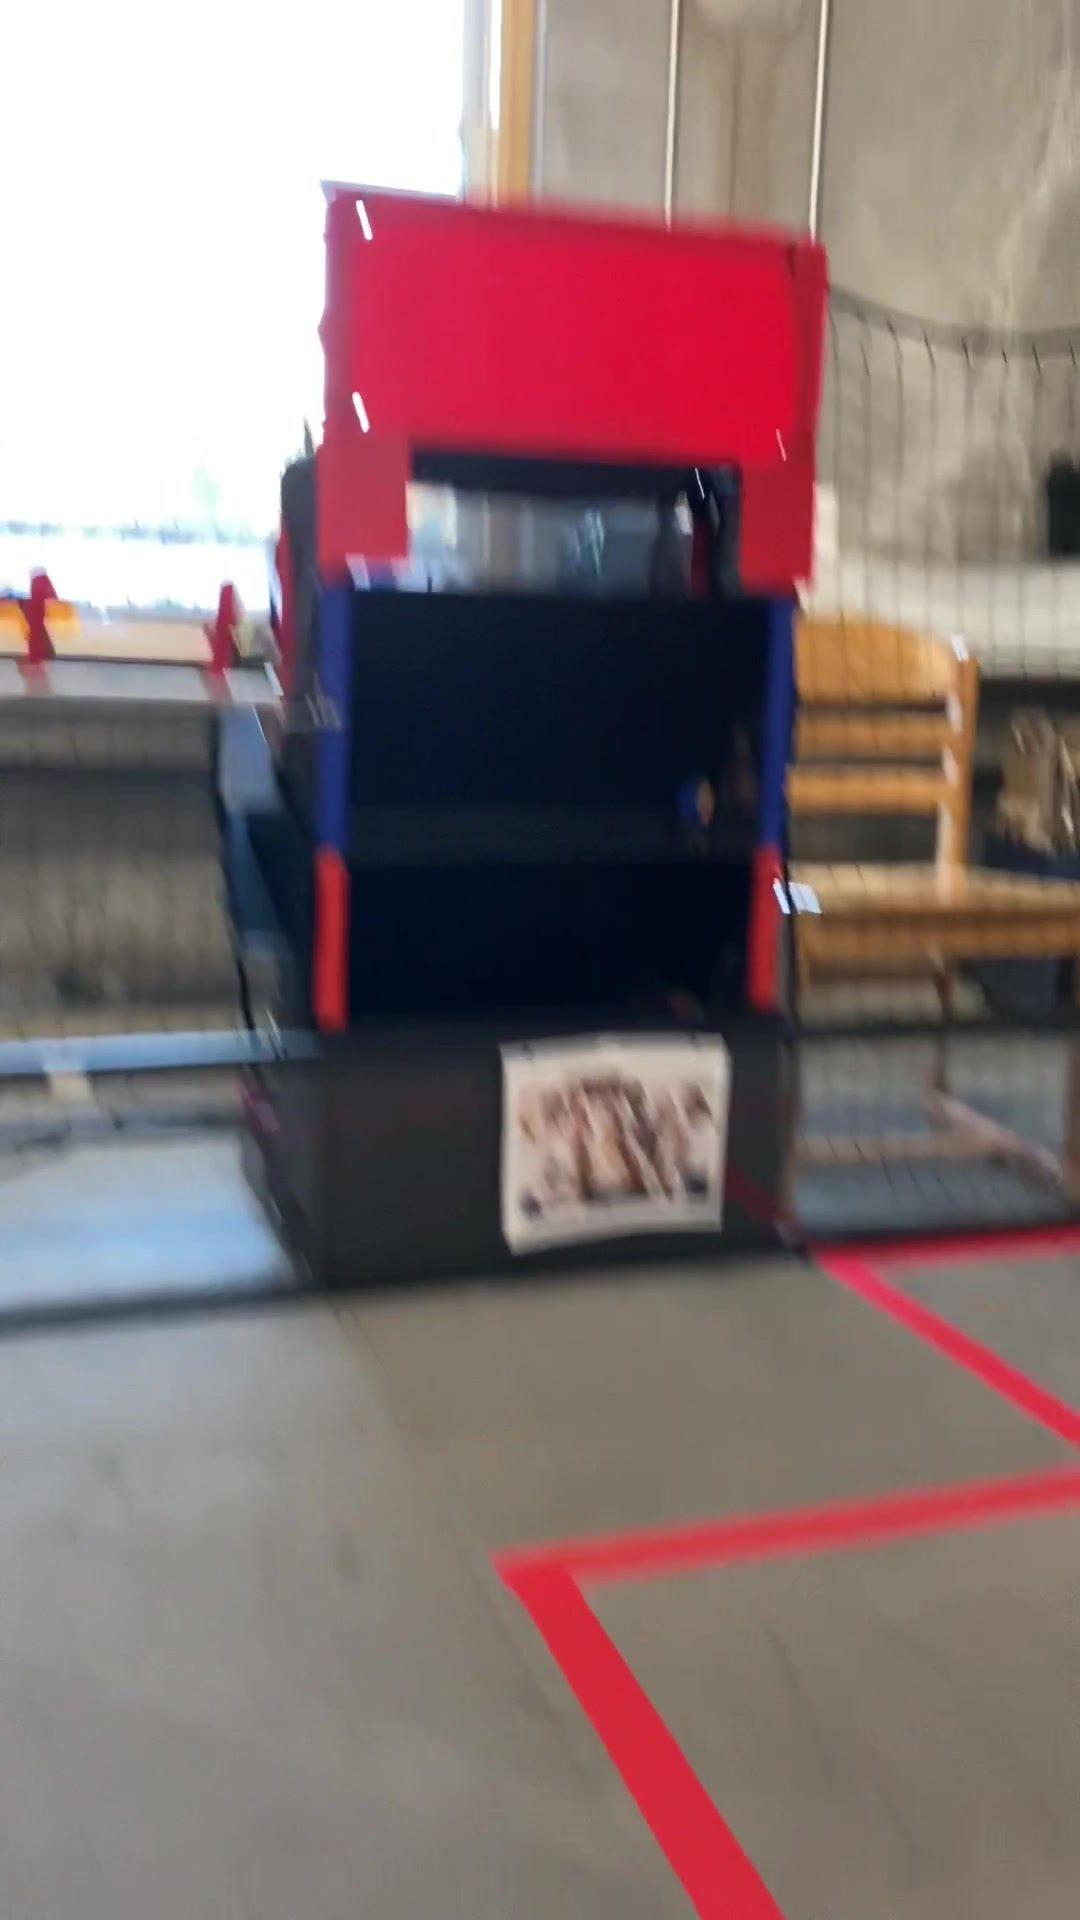high_goal: (404, 450, 749, 603)
